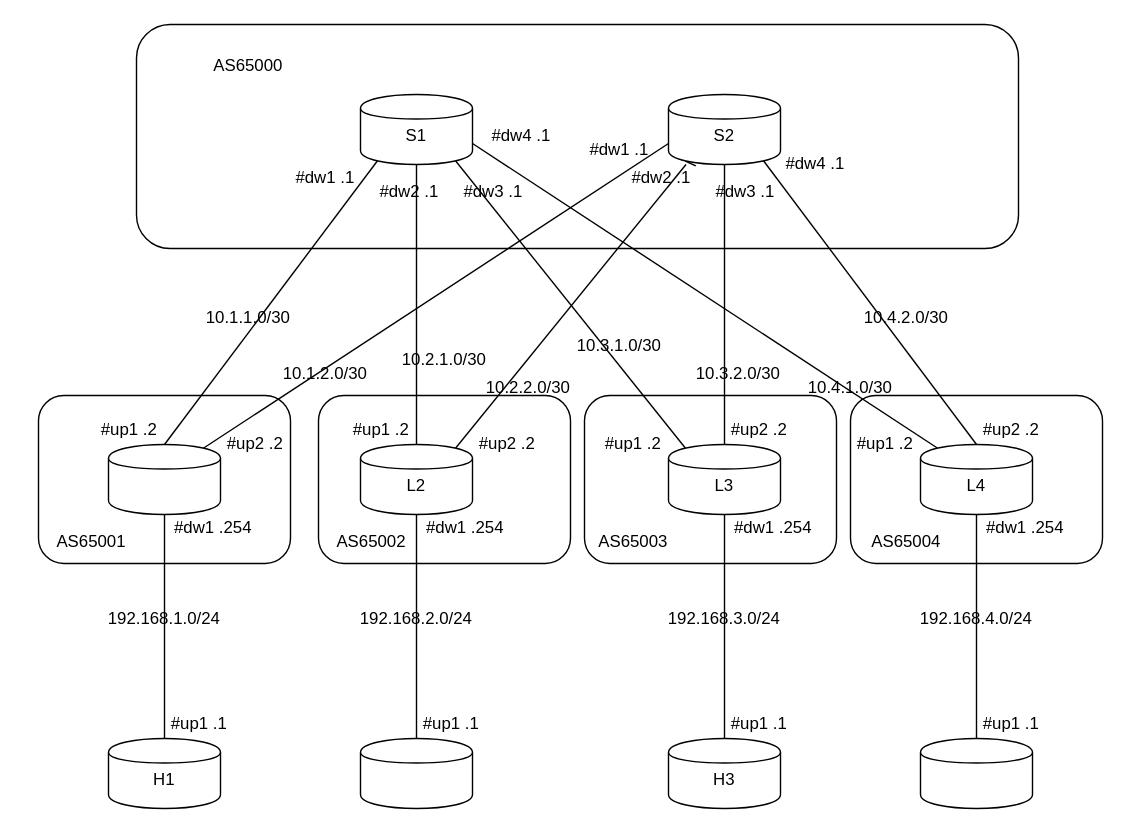
Image size: 1127x833. Some labels were removed from this diagram. The shapes that lost their labels are listed below. From the top down, each one's box as (x1, y1, x2, y2) in pixels, then its label:
(107, 443, 220, 514): L1
(359, 737, 472, 808): H2
(919, 737, 1032, 808): H4
